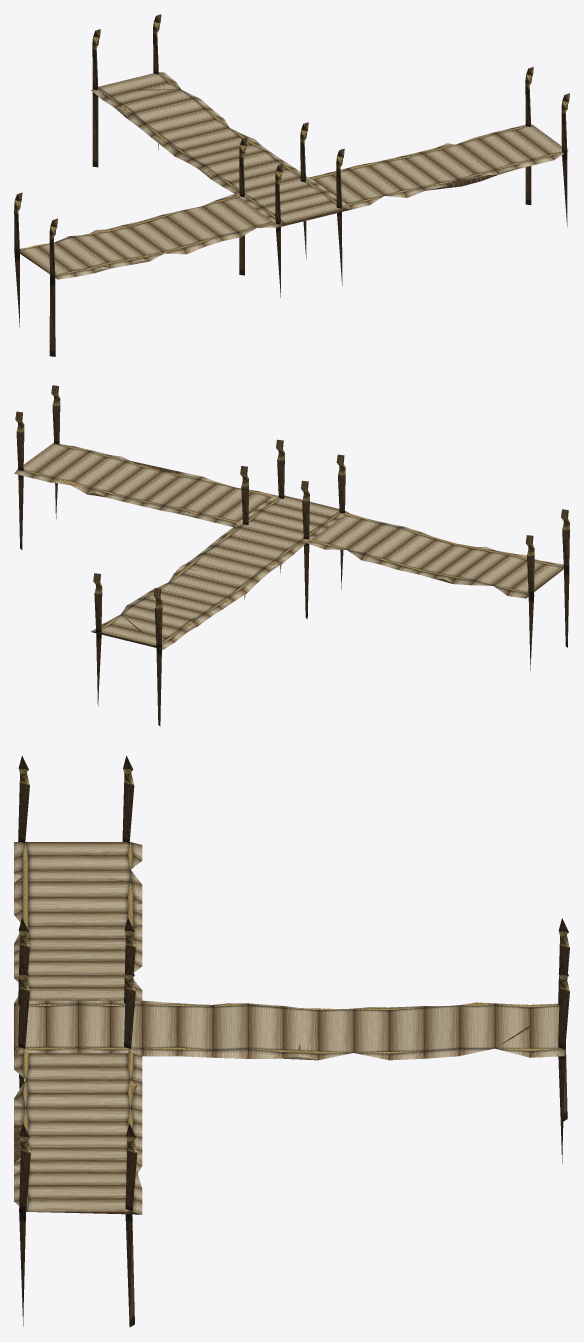
Rendered from p2_platform1_T_LOD1.fbx.
3 views of the same model, one above another, from view 1: azimuth 30°, elevation 25°; view 2: azimuth 150°, elevation 25°; view 3: azimuth 270°, elevation 25° (orthographic). The views are drawn at different scales.
Parts seen in each view (by area): view 1: polymsh; view 2: polymsh; view 3: polymsh.
Boxes of the visible parts, left/top/right/bottom form: polymsh: left=14, top=14, right=569, bottom=356; polymsh: left=14, top=385, right=569, bottom=726; polymsh: left=14, top=755, right=569, bottom=1327.
Size of the model in its own units: 707 by 179 by 445.
